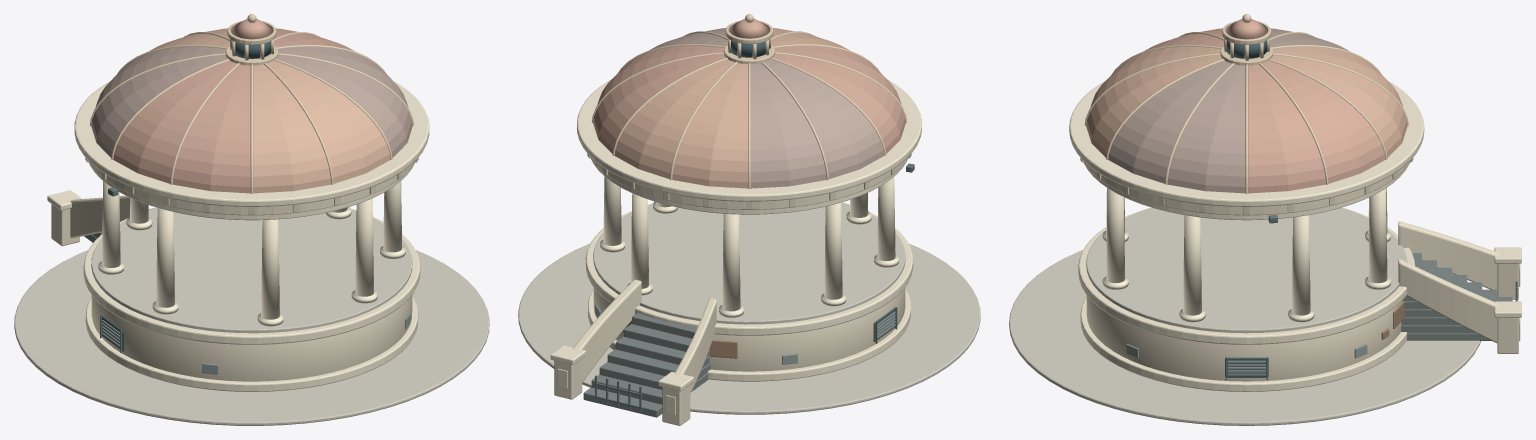
The model's file is edinburgh-gardens-rotunda.glb.
3 renders of one model, left to right at view 1: azimuth 30°, elevation 25°; view 2: azimuth 150°, elevation 25°; view 3: azimuth 270°, elevation 25°, orthographic. The views are drawn at different scales.
Visible parts, largest first — view 1: Panelled copper dome, Concrete paved apron, Painted concrete open deck, Rendered circular lower-storey drum, Entablature moulded cornice, Raised platform fascia, Lower drum plinth, Entablature triglyph frieze, Tuscan column 04 shaft, Tuscan column 03 shaft, Tuscan column 05 shaft, Entablature architrave (+6 smaller); view 2: Panelled copper dome, Painted concrete open deck, Concrete paved apron, Entablature moulded cornice, Rendered circular lower-storey drum, Raised platform fascia, Lower drum plinth, Rotunda stair balustrade right, Entablature triglyph frieze, Tuscan column 01 shaft, Tuscan column 02 shaft, Rotunda stair balustrade left (+17 smaller); view 3: Panelled copper dome, Painted concrete open deck, Concrete paved apron, Rendered circular lower-storey drum, Entablature moulded cornice, Raised platform fascia, Lower drum plinth, Rotunda stair balustrade right, Rotunda stair balustrade left, Entablature triglyph frieze, Tuscan column 07 shaft, Tuscan column 06 shaft (+12 smaller).
Boxes of the visible parts, x1,y1,x2,y2 form: Panelled copper dome: [91, 28, 412, 193]; Concrete paved apron: [14, 250, 489, 425]; Painted concrete open deck: [91, 207, 412, 333]; Rendered circular lower-storey drum: [91, 295, 412, 381]; Entablature moulded cornice: [74, 81, 429, 206]; Raised platform fascia: [83, 207, 420, 344]; Lower drum plinth: [85, 297, 418, 391]; Entablature triglyph frieze: [88, 161, 415, 215]; Tuscan column 04 shaft: [261, 219, 279, 319]; Tuscan column 03 shaft: [156, 208, 174, 307]; Tuscan column 05 shaft: [355, 198, 373, 296]; Entablature architrave: [89, 164, 413, 220]; Panelled copper dome: [593, 28, 905, 188]; Painted concrete open deck: [593, 202, 905, 324]; Concrete paved apron: [518, 243, 980, 414]; Entablature moulded cornice: [577, 79, 921, 201]; Rendered circular lower-storey drum: [593, 287, 905, 371]; Raised platform fascia: [585, 202, 913, 335]; Lower drum plinth: [588, 289, 910, 381]; Rotunda stair balustrade right: [573, 279, 641, 382]; Entablature triglyph frieze: [590, 157, 908, 209]; Tuscan column 01 shaft: [722, 213, 740, 311]; Tuscan column 02 shaft: [824, 202, 842, 299]; Rotunda stair balustrade left: [674, 298, 716, 393]; Panelled copper dome: [1086, 28, 1407, 193]; Painted concrete open deck: [1086, 207, 1407, 333]; Concrete paved apron: [1009, 250, 1480, 425]; Rendered circular lower-storey drum: [1086, 295, 1401, 381]; Entablature moulded cornice: [1069, 81, 1424, 206]; Raised platform fascia: [1078, 207, 1414, 344]; Lower drum plinth: [1080, 296, 1407, 391]; Rotunda stair balustrade right: [1398, 259, 1499, 342]; Rotunda stair balustrade left: [1398, 221, 1499, 289]; Entablature triglyph frieze: [1083, 161, 1409, 215]; Tuscan column 07 shaft: [1291, 215, 1310, 315]; Tuscan column 06 shaft: [1183, 215, 1201, 315].
Size of the model in its own units: 13.5 by 9.76 by 14.56.
